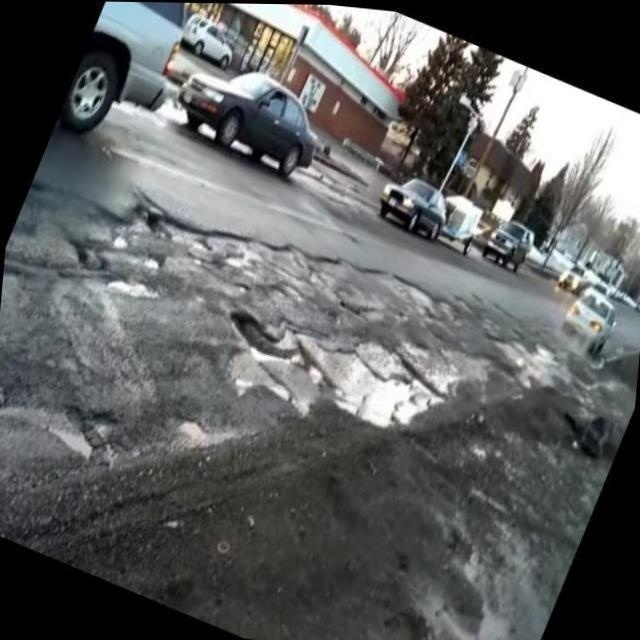pothole: (214, 304, 446, 438), (80, 178, 236, 288), (47, 389, 123, 465)
